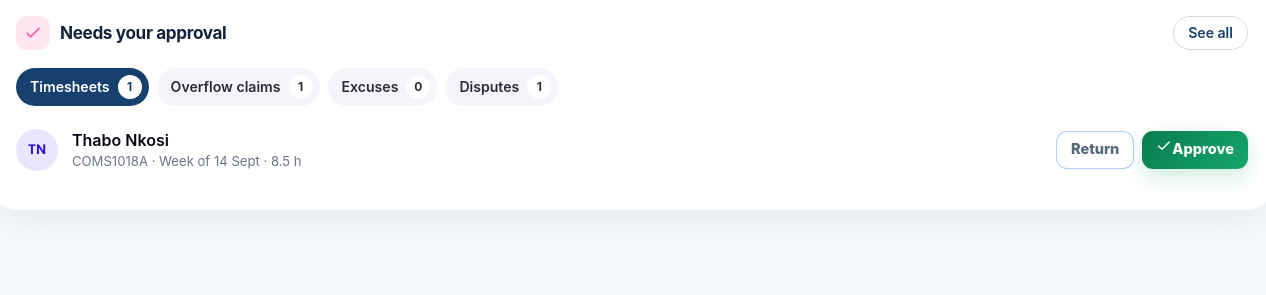
it: HomeApprovals › approves a timesheet straight from Home
The width and height of the screenshot is (1266, 295).
Click the button with aria-label "Approve Thabo Nkosi's timesheet". click: (1195, 150)
box: x1=1142 y1=131 x2=1248 y2=169
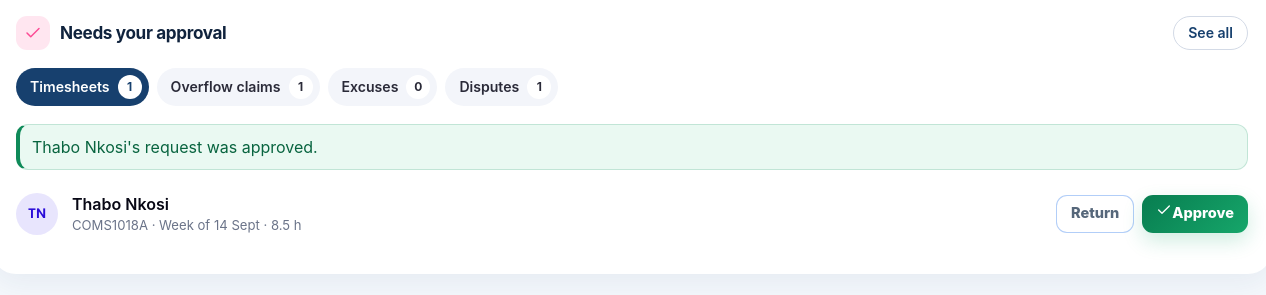
Check: the message reads "Thabo Nkosi's request was approved.", box x1=32 y1=137 x2=318 y2=157
